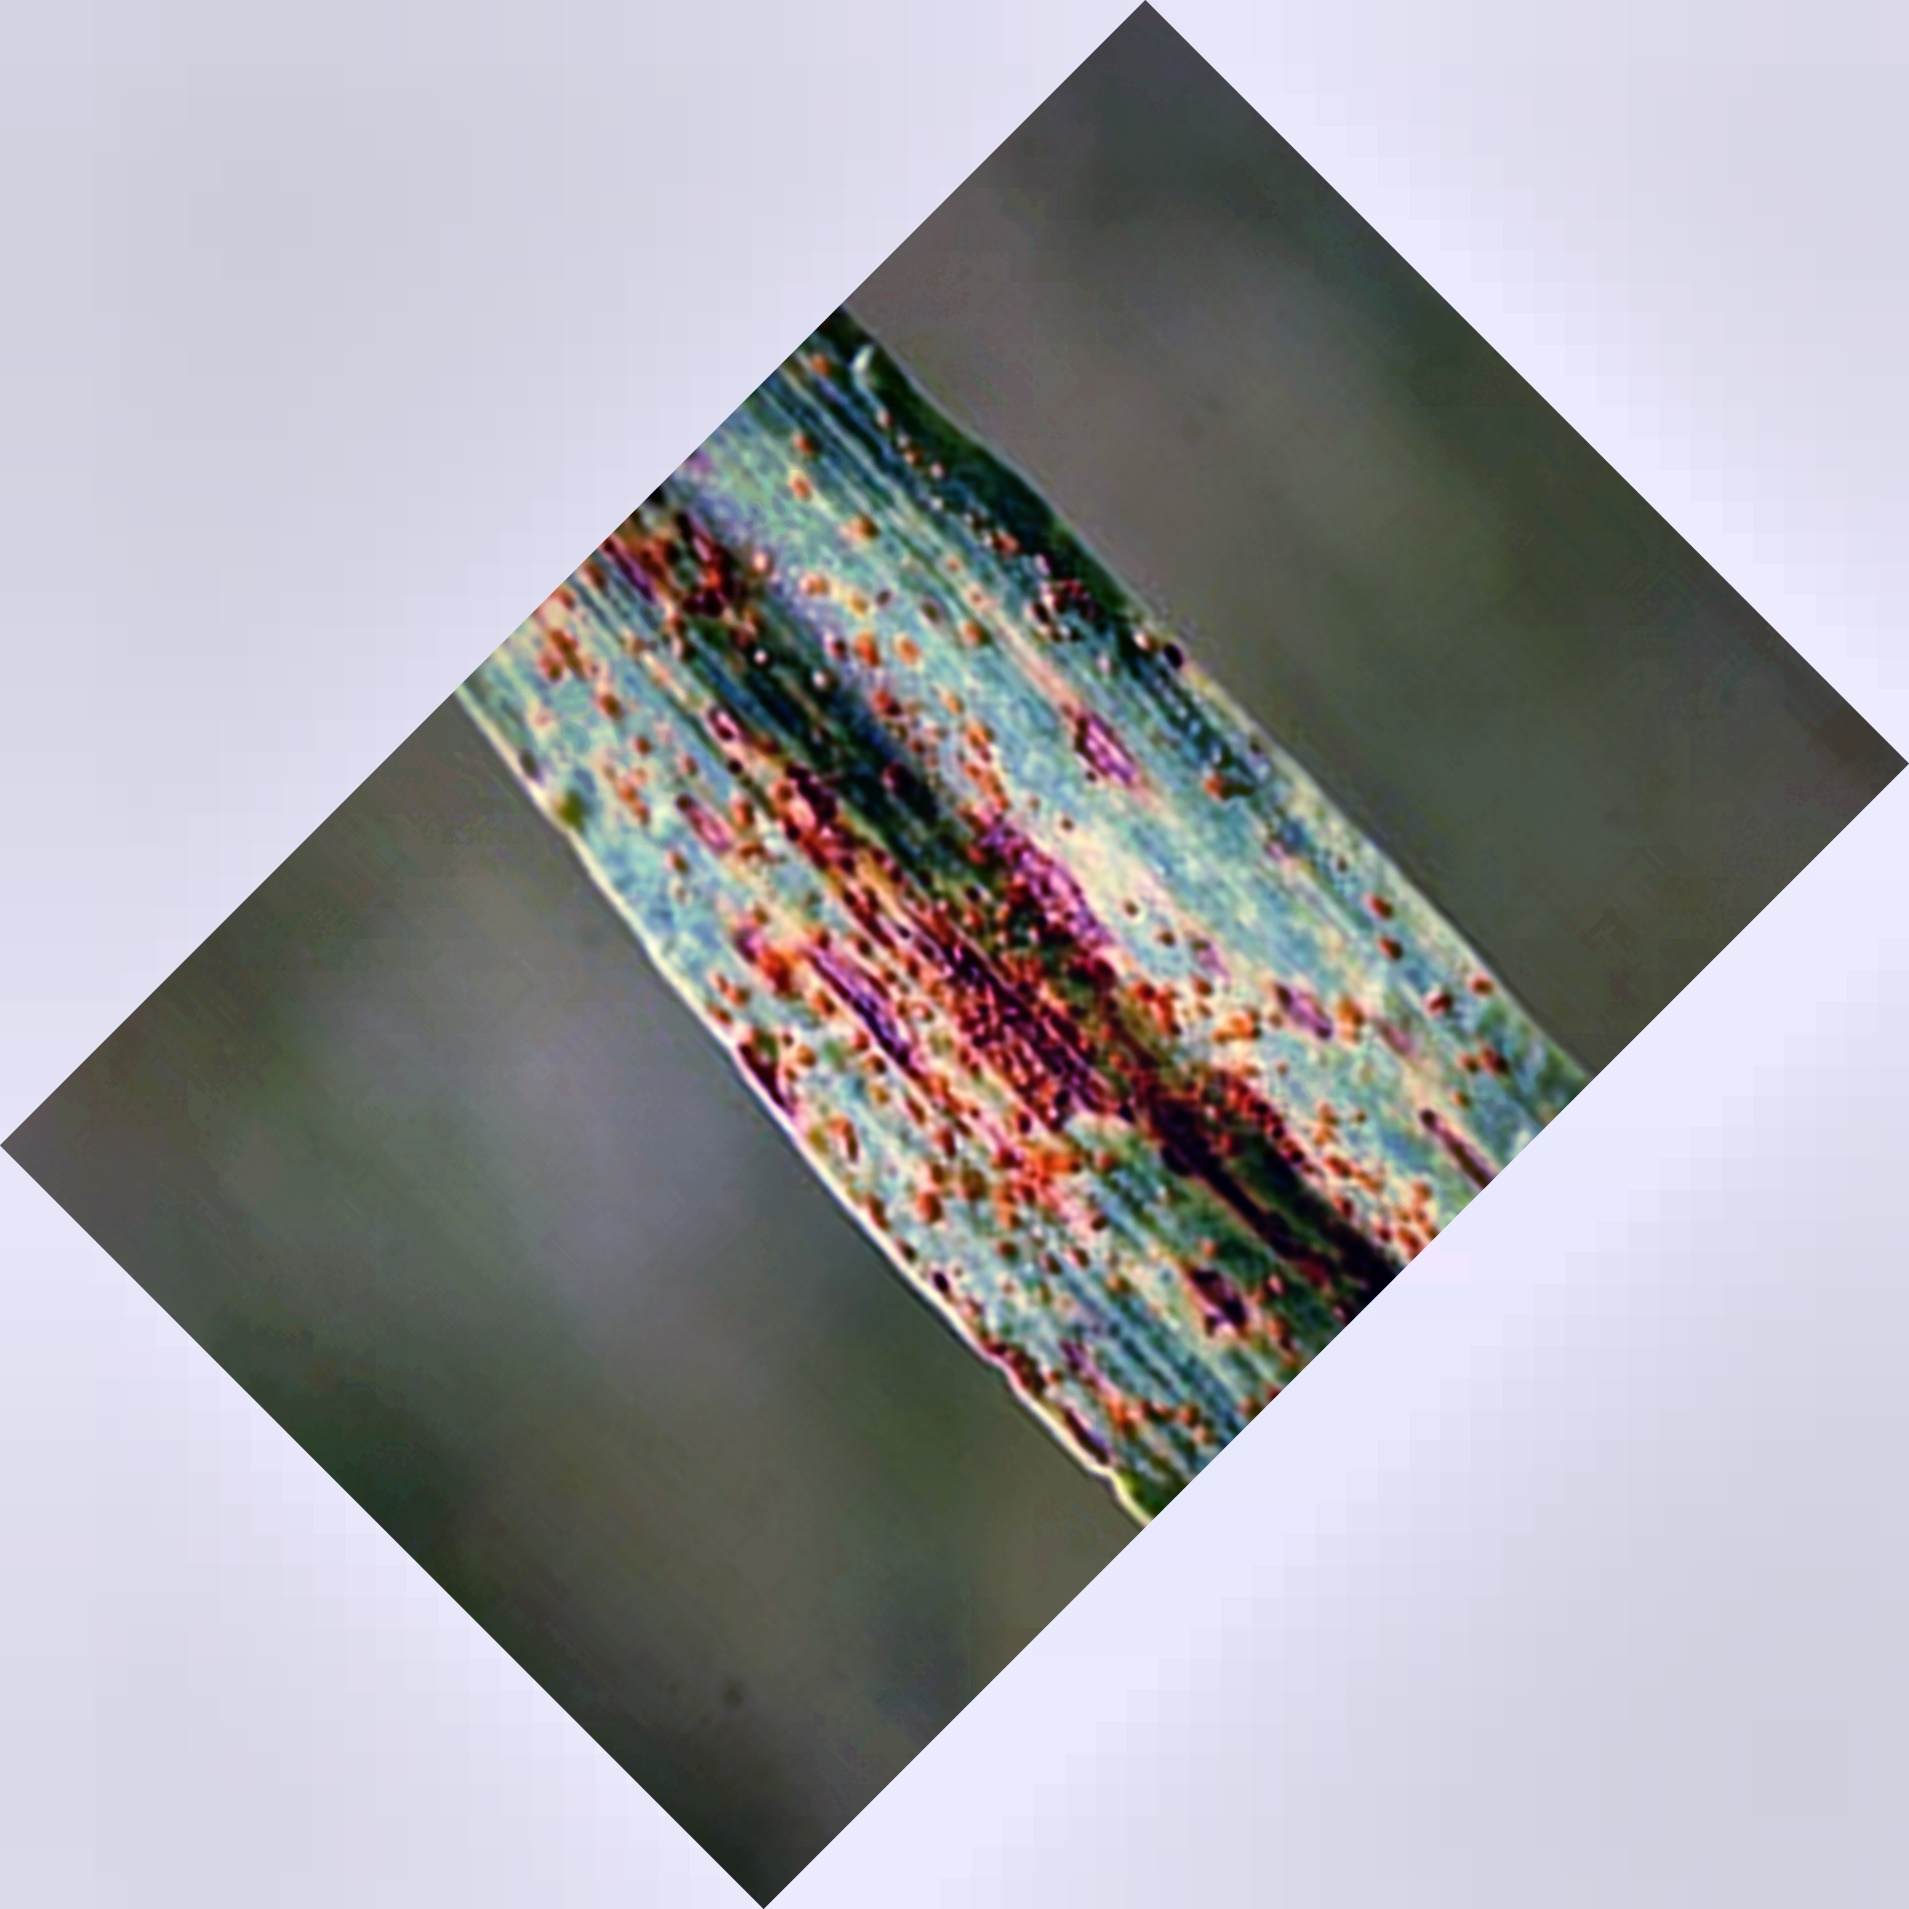Leaf Rust: (566, 336, 1372, 1362)
